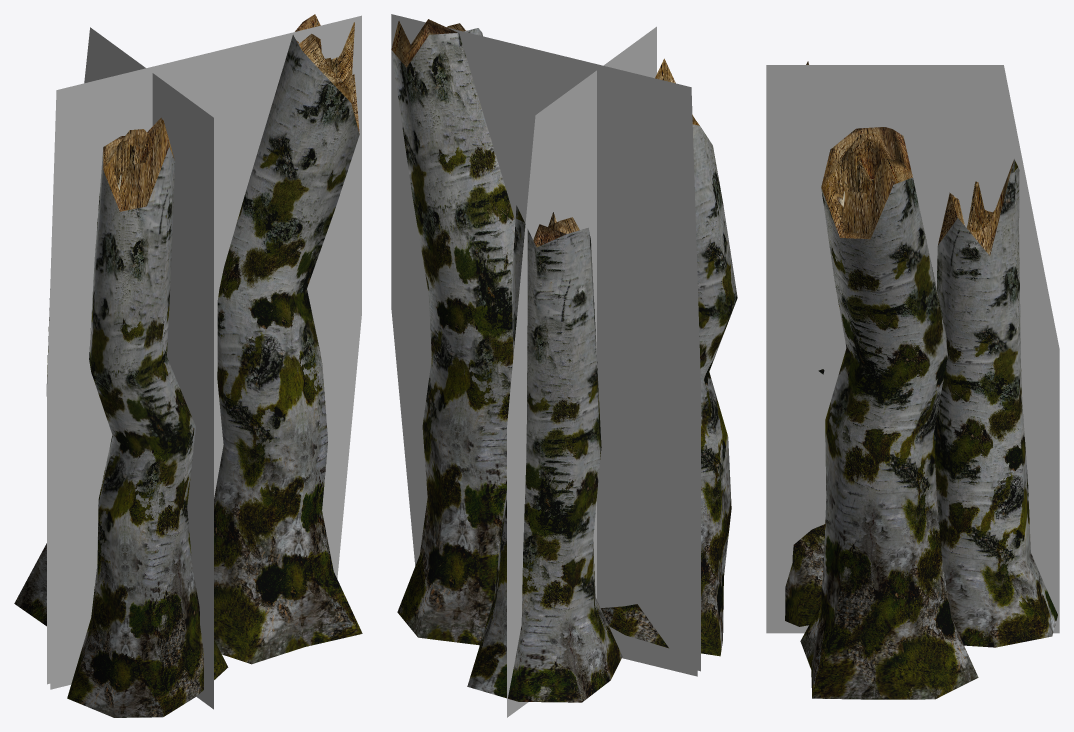
Rendered from Stump2.fbx.
3 renders of one model, left to right at view 1: azimuth 30°, elevation 25°; view 2: azimuth 150°, elevation 25°; view 3: azimuth 270°, elevation 25°, orthographic. The views are drawn at different scales.
Parts seen in each view (by area): view 1: LOD0, Billboard; view 2: LOD0, Billboard; view 3: LOD0, Billboard.
Part boxes in pixels (x1,y1,x2,y2): LOD0: [14, 14, 362, 717]; Billboard: [47, 15, 361, 709]; LOD0: [391, 19, 737, 702]; Billboard: [391, 14, 700, 717]; LOD0: [785, 61, 1057, 699]; Billboard: [766, 65, 1059, 633].
Size of what is drawn, in the model's own units: 60.78 by 112 by 51.08.
